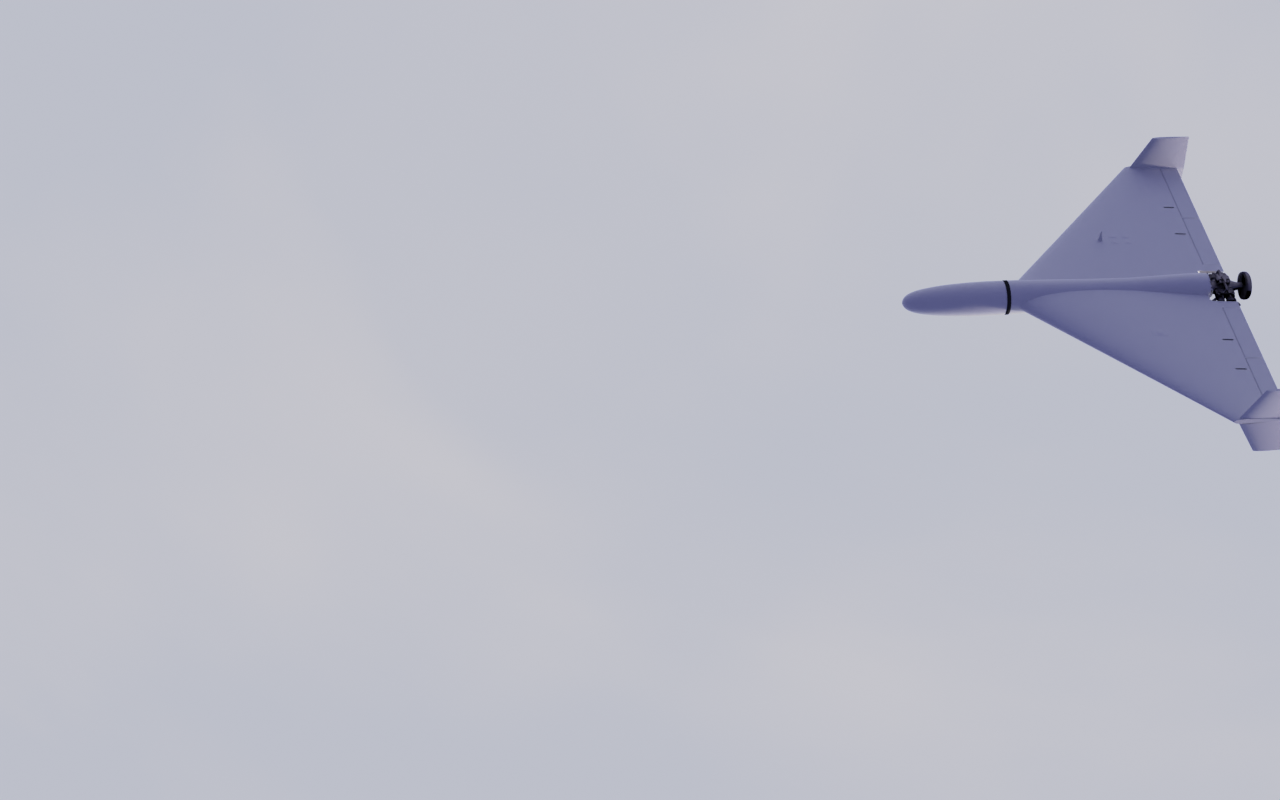shahed: (902, 136, 1280, 453)
